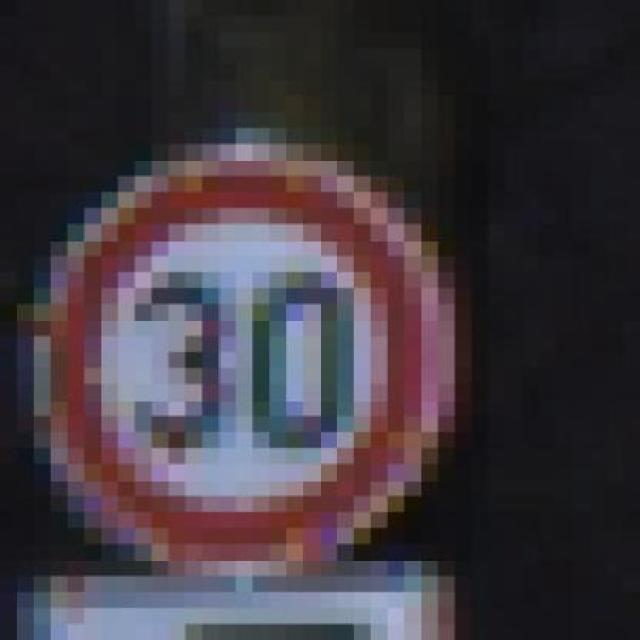Speed Limit 30 KMPh: (0, 112, 489, 594)
